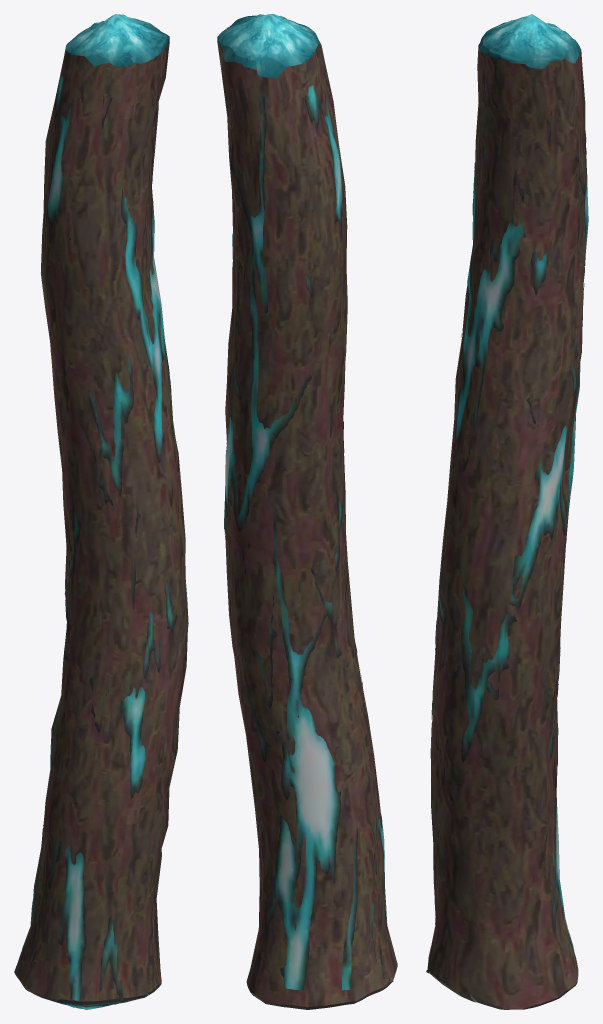
3 renders of one model, left to right at view 1: azimuth 30°, elevation 25°; view 2: azimuth 150°, elevation 25°; view 3: azimuth 270°, elevation 25°, orthographic. The views are drawn at different scales.
Visible parts, largest first — view 1: SM_MagicTree_01_tree_quarters_bottom_LOD0; view 2: SM_MagicTree_01_tree_quarters_bottom_LOD0; view 3: SM_MagicTree_01_tree_quarters_bottom_LOD0.
Part boxes in pixels (x1,y1,x2,y2): SM_MagicTree_01_tree_quarters_bottom_LOD0: (14,14,188,1009); SM_MagicTree_01_tree_quarters_bottom_LOD0: (217,14,397,1009); SM_MagicTree_01_tree_quarters_bottom_LOD0: (426,14,588,1009).
Bounding box in the file's own units: 1.06 × 6.43 × 0.9435.
Materials: 1 (1 with a texture image).
